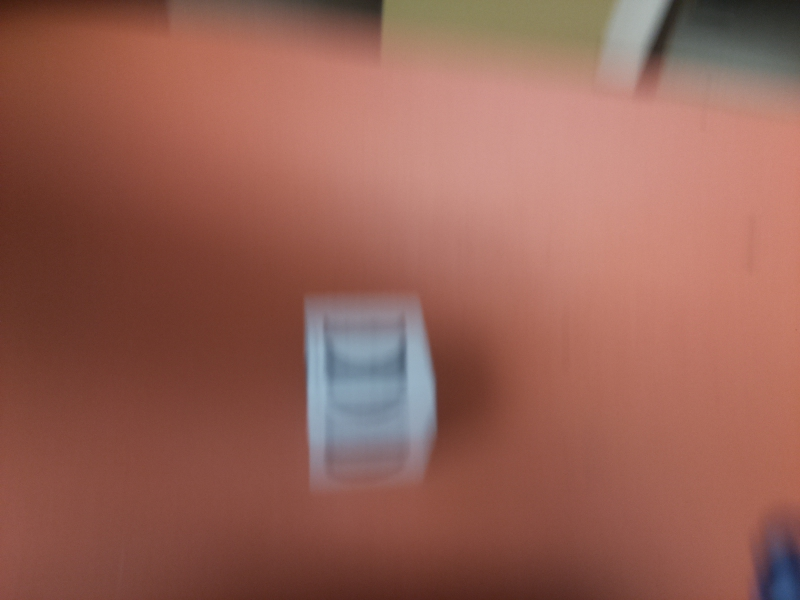blockD: (295, 295, 443, 486)
